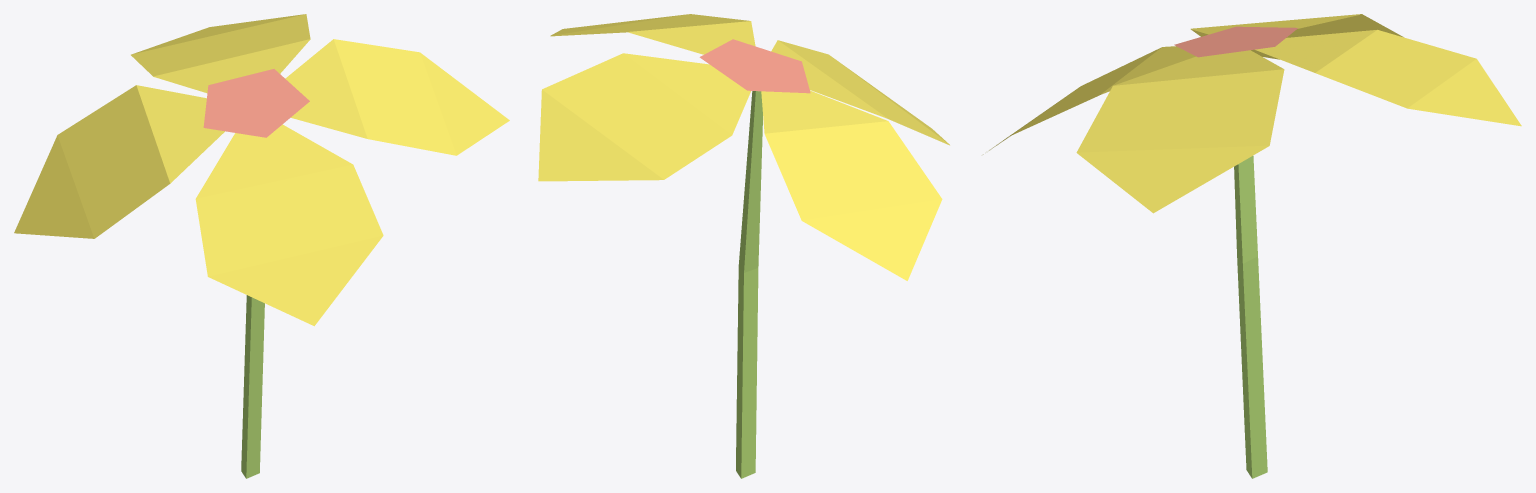
The model's file is Flower_d_TwoS_02.fbx.
The picture shows the model from 3 angles, left to right: view 1: azimuth 30°, elevation 25°; view 2: azimuth 150°, elevation 25°; view 3: azimuth 270°, elevation 25°; orthographic projection. The views are drawn at different scales.
Parts seen in each view (by area): view 1: Flower_d_TwoS_02; view 2: Flower_d_TwoS_02; view 3: Flower_d_TwoS_02.
Part boxes in pixels (x1,y1,x2,y2): Flower_d_TwoS_02: [14, 14, 509, 478]; Flower_d_TwoS_02: [538, 14, 949, 478]; Flower_d_TwoS_02: [983, 14, 1521, 478].
Bounding box in the file's own units: 23.84 × 22.33 × 23.95.
